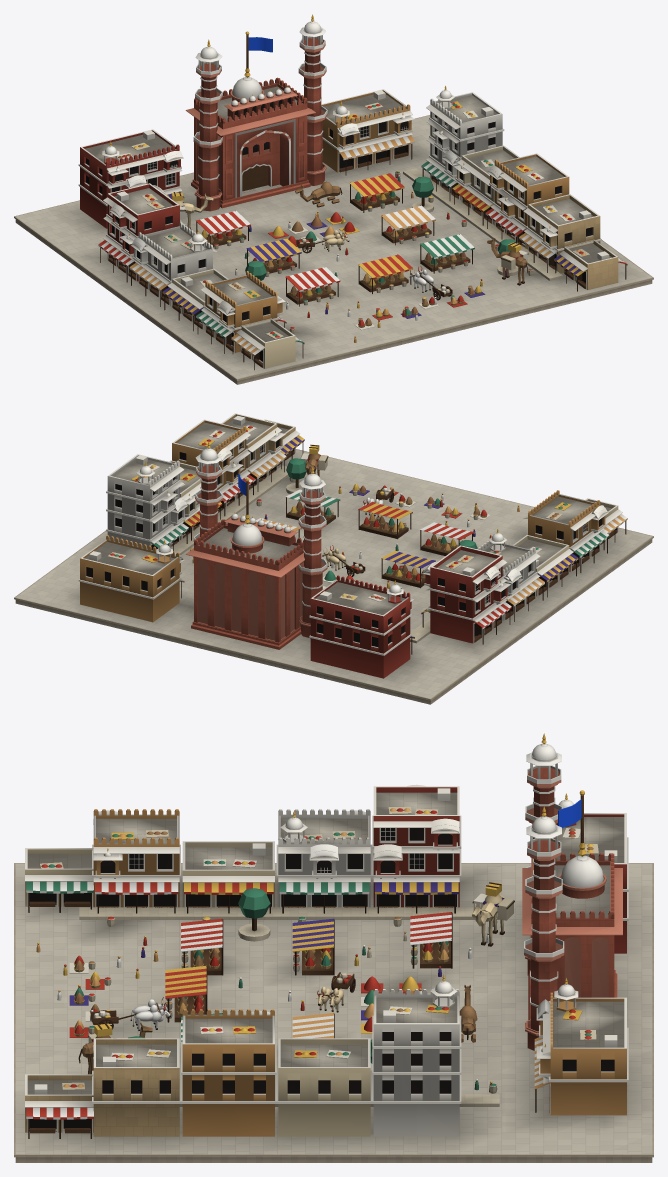
Rendered from lm_baharatpazari.glb.
3 renders of one model, top to bottom at view 1: azimuth 30°, elevation 25°; view 2: azimuth 150°, elevation 25°; view 3: azimuth 270°, elevation 25°, orthographic. The views are drawn at different scales.
Visible parts, largest first — view 1: lm_baharatpazari; view 2: lm_baharatpazari; view 3: lm_baharatpazari.
Part boxes in pixels (x1,y1,x2,y2): lm_baharatpazari: [14, 14, 653, 384]; lm_baharatpazari: [14, 413, 653, 704]; lm_baharatpazari: [14, 733, 653, 1162].
Bounding box in the file's own units: 2.17 × 0.8597 × 2.01.
Materials: 1 (1 with a texture image).
